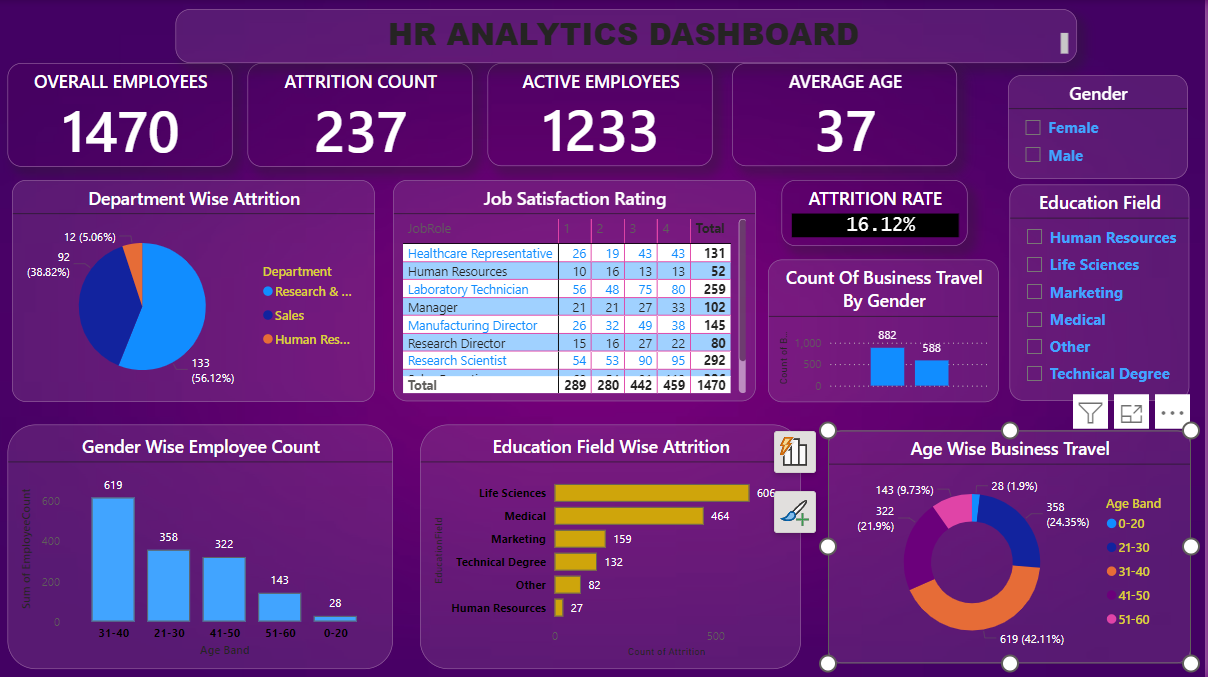

The dashboard page shown, as its layout file describes it:
{"tool":"powerbi","page":{"name":"HR ANALYTICS DASHBOARD","canvas":[1280,720],"ordinal":0},"visuals":[{"type":"card","title":"OVERALL EMPLOYEES","fields":{"Values":["Sum(WA_Fn-UseC_-HR-Employee-Attrition.EmployeeCount)"]},"box":[11.1,66.8,238.6,109.8],"z":0},{"type":"card","title":"ATTRITION COUNT","fields":{"Values":["Sum(WA_Fn-UseC_-HR-Employee-Attrition.Attrition Count)"]},"box":[265.6,66.8,238.6,109.8],"z":1000},{"type":"ScrollingTextVisual1448795304508","title":"ATTRITION RATE","fields":{"Measure Absolute":["WA_Fn-UseC_-HR-Employee-Attrition.Attrition Rate"]},"box":[831.9,190.9,197.2,70],"z":2000},{"type":"card","title":"ACTIVE EMPLOYEES","fields":{"Values":["WA_Fn-UseC_-HR-Employee-Attrition.Active Employees"]},"box":[520.5,66.8,239,109.4],"z":3000},{"type":"textbox","box":[189.3,9.5,956,57.3],"z":4000},{"type":"card","title":"AVERAGE AGE","fields":{"Values":["Avg(WA_Fn-UseC_-HR-Employee-Attrition.Age)"]},"box":[779.7,66.8,239,109.4],"z":5000},{"type":"pieChart","title":"Department Wise Attrition","fields":{"Category":["WA_Fn-UseC_-HR-Employee-Attrition.Department"],"Y":["Sum(WA_Fn-UseC_-HR-Employee-Attrition.Attrition Count)"]},"box":[15.9,190.9,384.9,235.4],"z":6000},{"type":"pivotTable","title":"Job Satisfaction Rating","fields":{"Rows":["WA_Fn-UseC_-HR-Employee-Attrition.JobRole"],"Columns":["WA_Fn-UseC_-HR-Employee-Attrition.JobSatisfaction"],"Values":["Sum(WA_Fn-UseC_-HR-Employee-Attrition.EmployeeCount)"]},"box":[419.2,190.4,384.8,234.9],"z":7000},{"type":"barChart","title":"Education Field Wise Attrition","fields":{"Category":["WA_Fn-UseC_-HR-Employee-Attrition.EducationField"],"Y":["CountNonNull(WA_Fn-UseC_-HR-Employee-Attrition.Attrition)"]},"box":[448.6,450.1,404,259.3],"z":8000},{"type":"columnChart","title":"Gender Wise Employee Count","fields":{"Y":["Sum(WA_Fn-UseC_-HR-Employee-Attrition.EmployeeCount)"],"Category":["WA_Fn-UseC_-HR-Employee-Attrition.Age Band"]},"box":[11.1,450.1,408.8,259.3],"z":9000},{"type":"slicer","title":"Education Field","fields":{"Values":["WA_Fn-UseC_-HR-Employee-Attrition.EducationField"]},"box":[1074.3,196.2,190.5,229.2],"z":10000},{"type":"pieChart","title":"Age Wise Business Travel","fields":{"Y":["CountNonNull(WA_Fn-UseC_-HR-Employee-Attrition.BusinessTravel)"],"Category":["WA_Fn-UseC_-HR-Employee-Attrition.Age Band"]},"box":[881.2,456.5,384.9,246.5],"z":11000},{"type":"slicer","title":"Gender","fields":{"Values":["WA_Fn-UseC_-HR-Employee-Attrition.Gender"]},"box":[1072.9,80.2,190.5,110.3],"z":12000},{"type":"columnChart","title":"Count Of Business Travel By Gender","fields":{"Y":["CountNonNull(WA_Fn-UseC_-HR-Employee-Attrition.BusinessTravel)"],"Category":["WA_Fn-UseC_-HR-Employee-Attrition.Gender"]},"box":[817.6,275.2,245,151.1],"z":12001}]}

Visuals, with their boxes in screenshot pixels (x1, y1, x2, y2), scaled from the page's 1280x720 canvas onto the 1208x677 screenshot:
"OVERALL EMPLOYEES" card: [10, 63, 236, 166]
"ATTRITION COUNT" card: [251, 63, 476, 166]
"ATTRITION RATE" ScrollingTextVisual1448795304508: [785, 179, 971, 245]
"ACTIVE EMPLOYEES" card: [491, 63, 717, 166]
textbox: [179, 9, 1081, 63]
"AVERAGE AGE" card: [736, 63, 961, 166]
"Department Wise Attrition" pieChart: [15, 179, 378, 401]
"Job Satisfaction Rating" pivotTable: [396, 179, 759, 400]
"Education Field Wise Attrition" barChart: [423, 423, 805, 667]
"Gender Wise Employee Count" columnChart: [10, 423, 396, 667]
"Education Field" slicer: [1014, 184, 1194, 400]
"Age Wise Business Travel" pieChart: [832, 429, 1195, 661]
"Gender" slicer: [1013, 75, 1192, 179]
"Count Of Business Travel By Gender" columnChart: [772, 259, 1003, 401]
